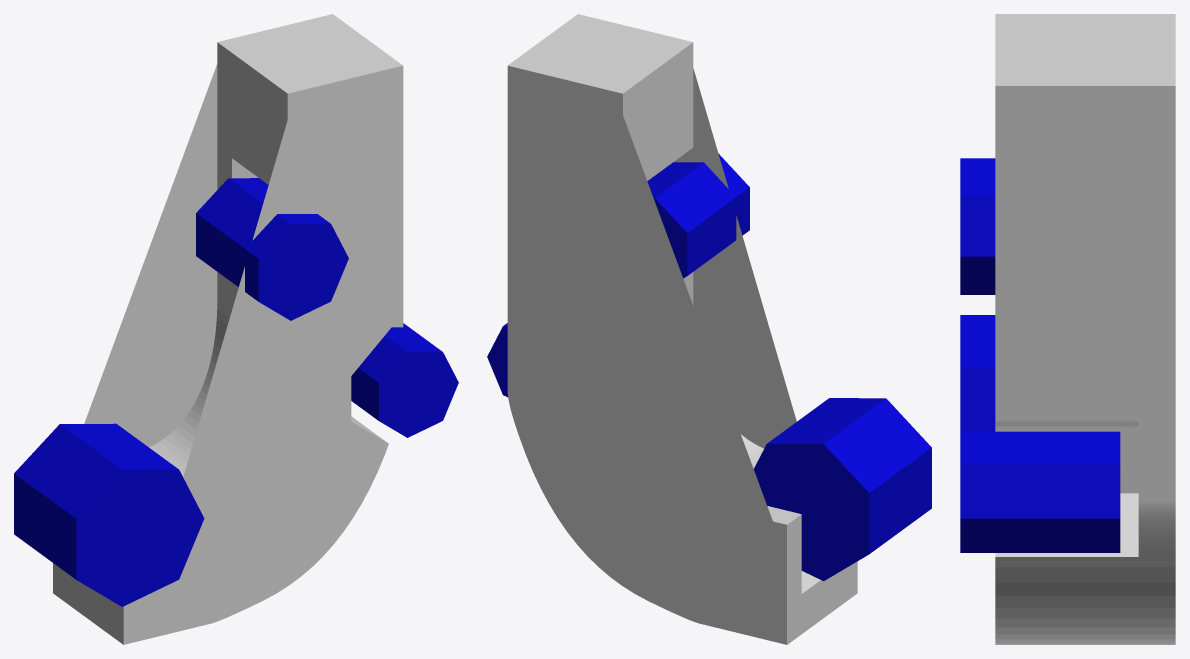
Rendered from Ch_Lite_J_01.fbx.
3 views of the same model, side by side, from view 1: azimuth 30°, elevation 25°; view 2: azimuth 150°, elevation 25°; view 3: azimuth 270°, elevation 25° (orthographic). The views are drawn at different scales.
Visible parts, largest first — view 1: sphere1; view 2: sphere1; view 3: sphere1.
Part boxes in pixels (x1,y1,x2,y2): sphere1: (14, 14, 458, 644); sphere1: (487, 14, 931, 644); sphere1: (960, 14, 1175, 644).
Size of the model in its own units: 0.6261 by 0.8 by 0.2387.
